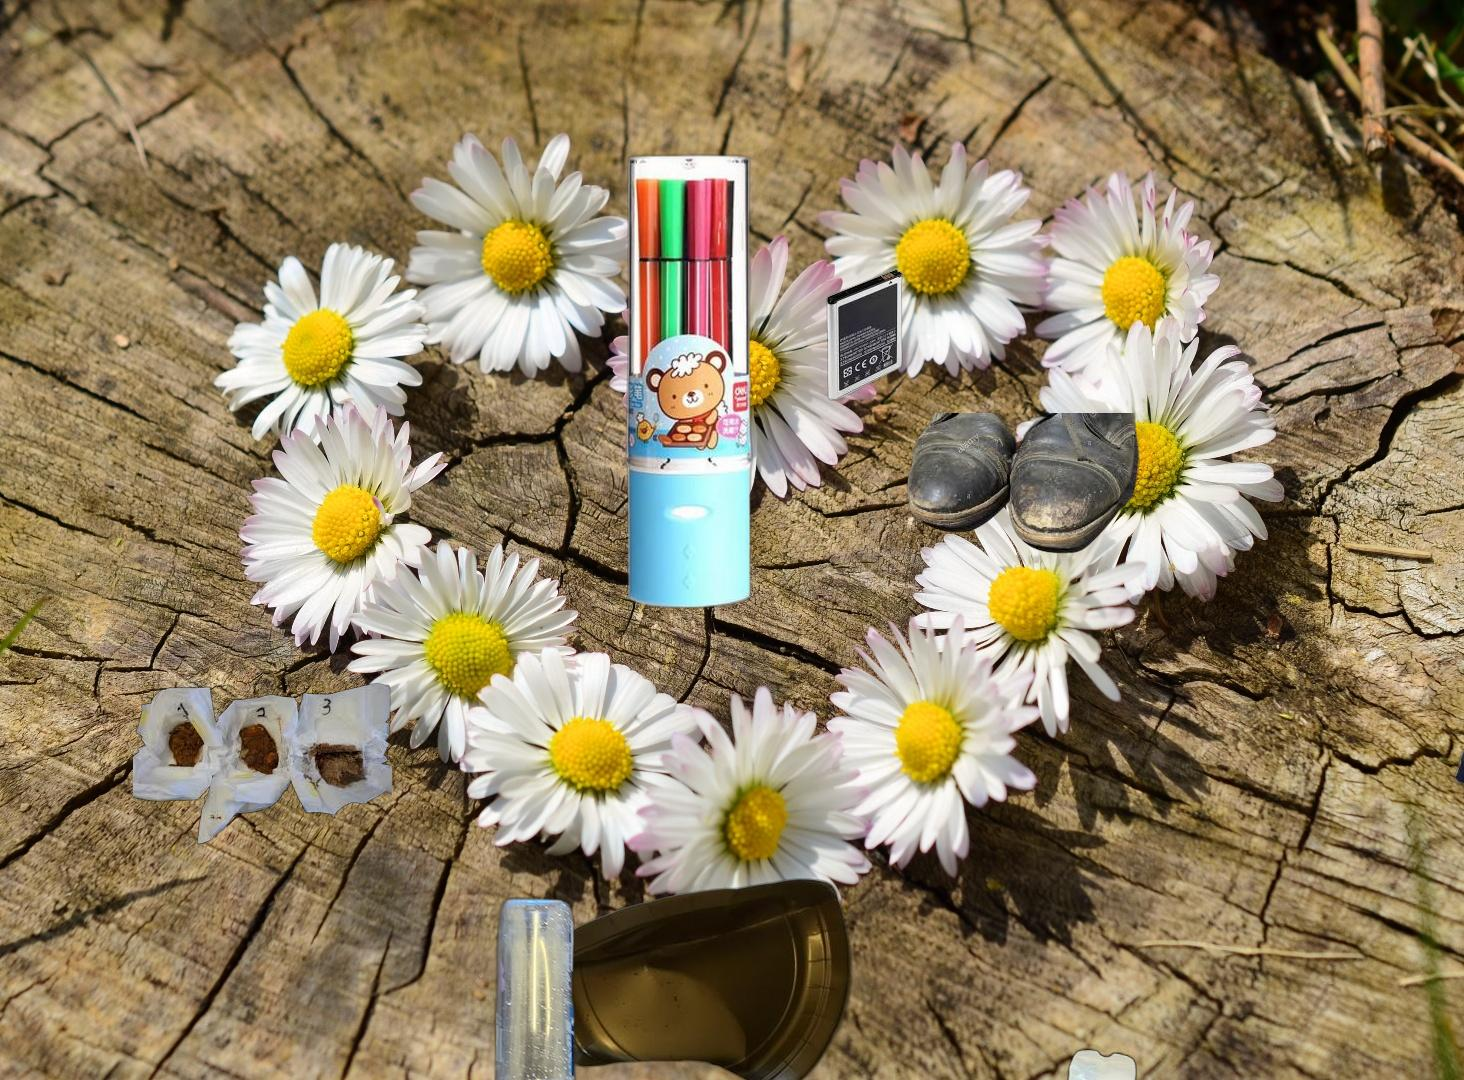battery: (824, 267, 905, 402)
clothes: (1450, 572, 1464, 859)
paper: (521, 875, 856, 1080)
penholder: (621, 151, 756, 612)
plastic-bottles: (489, 894, 581, 1080), (1050, 1044, 1140, 1080)
shoes: (904, 413, 1142, 556)
trash: (133, 680, 392, 847)
